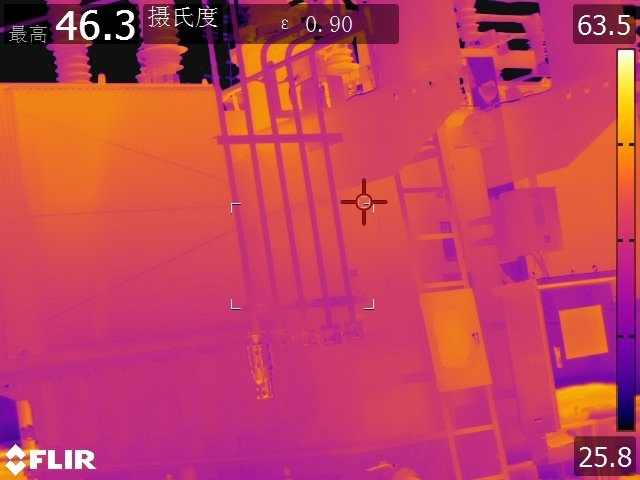transformer: (1, 55, 535, 480)
tube: (45, 1, 106, 89), (129, 1, 192, 78)
